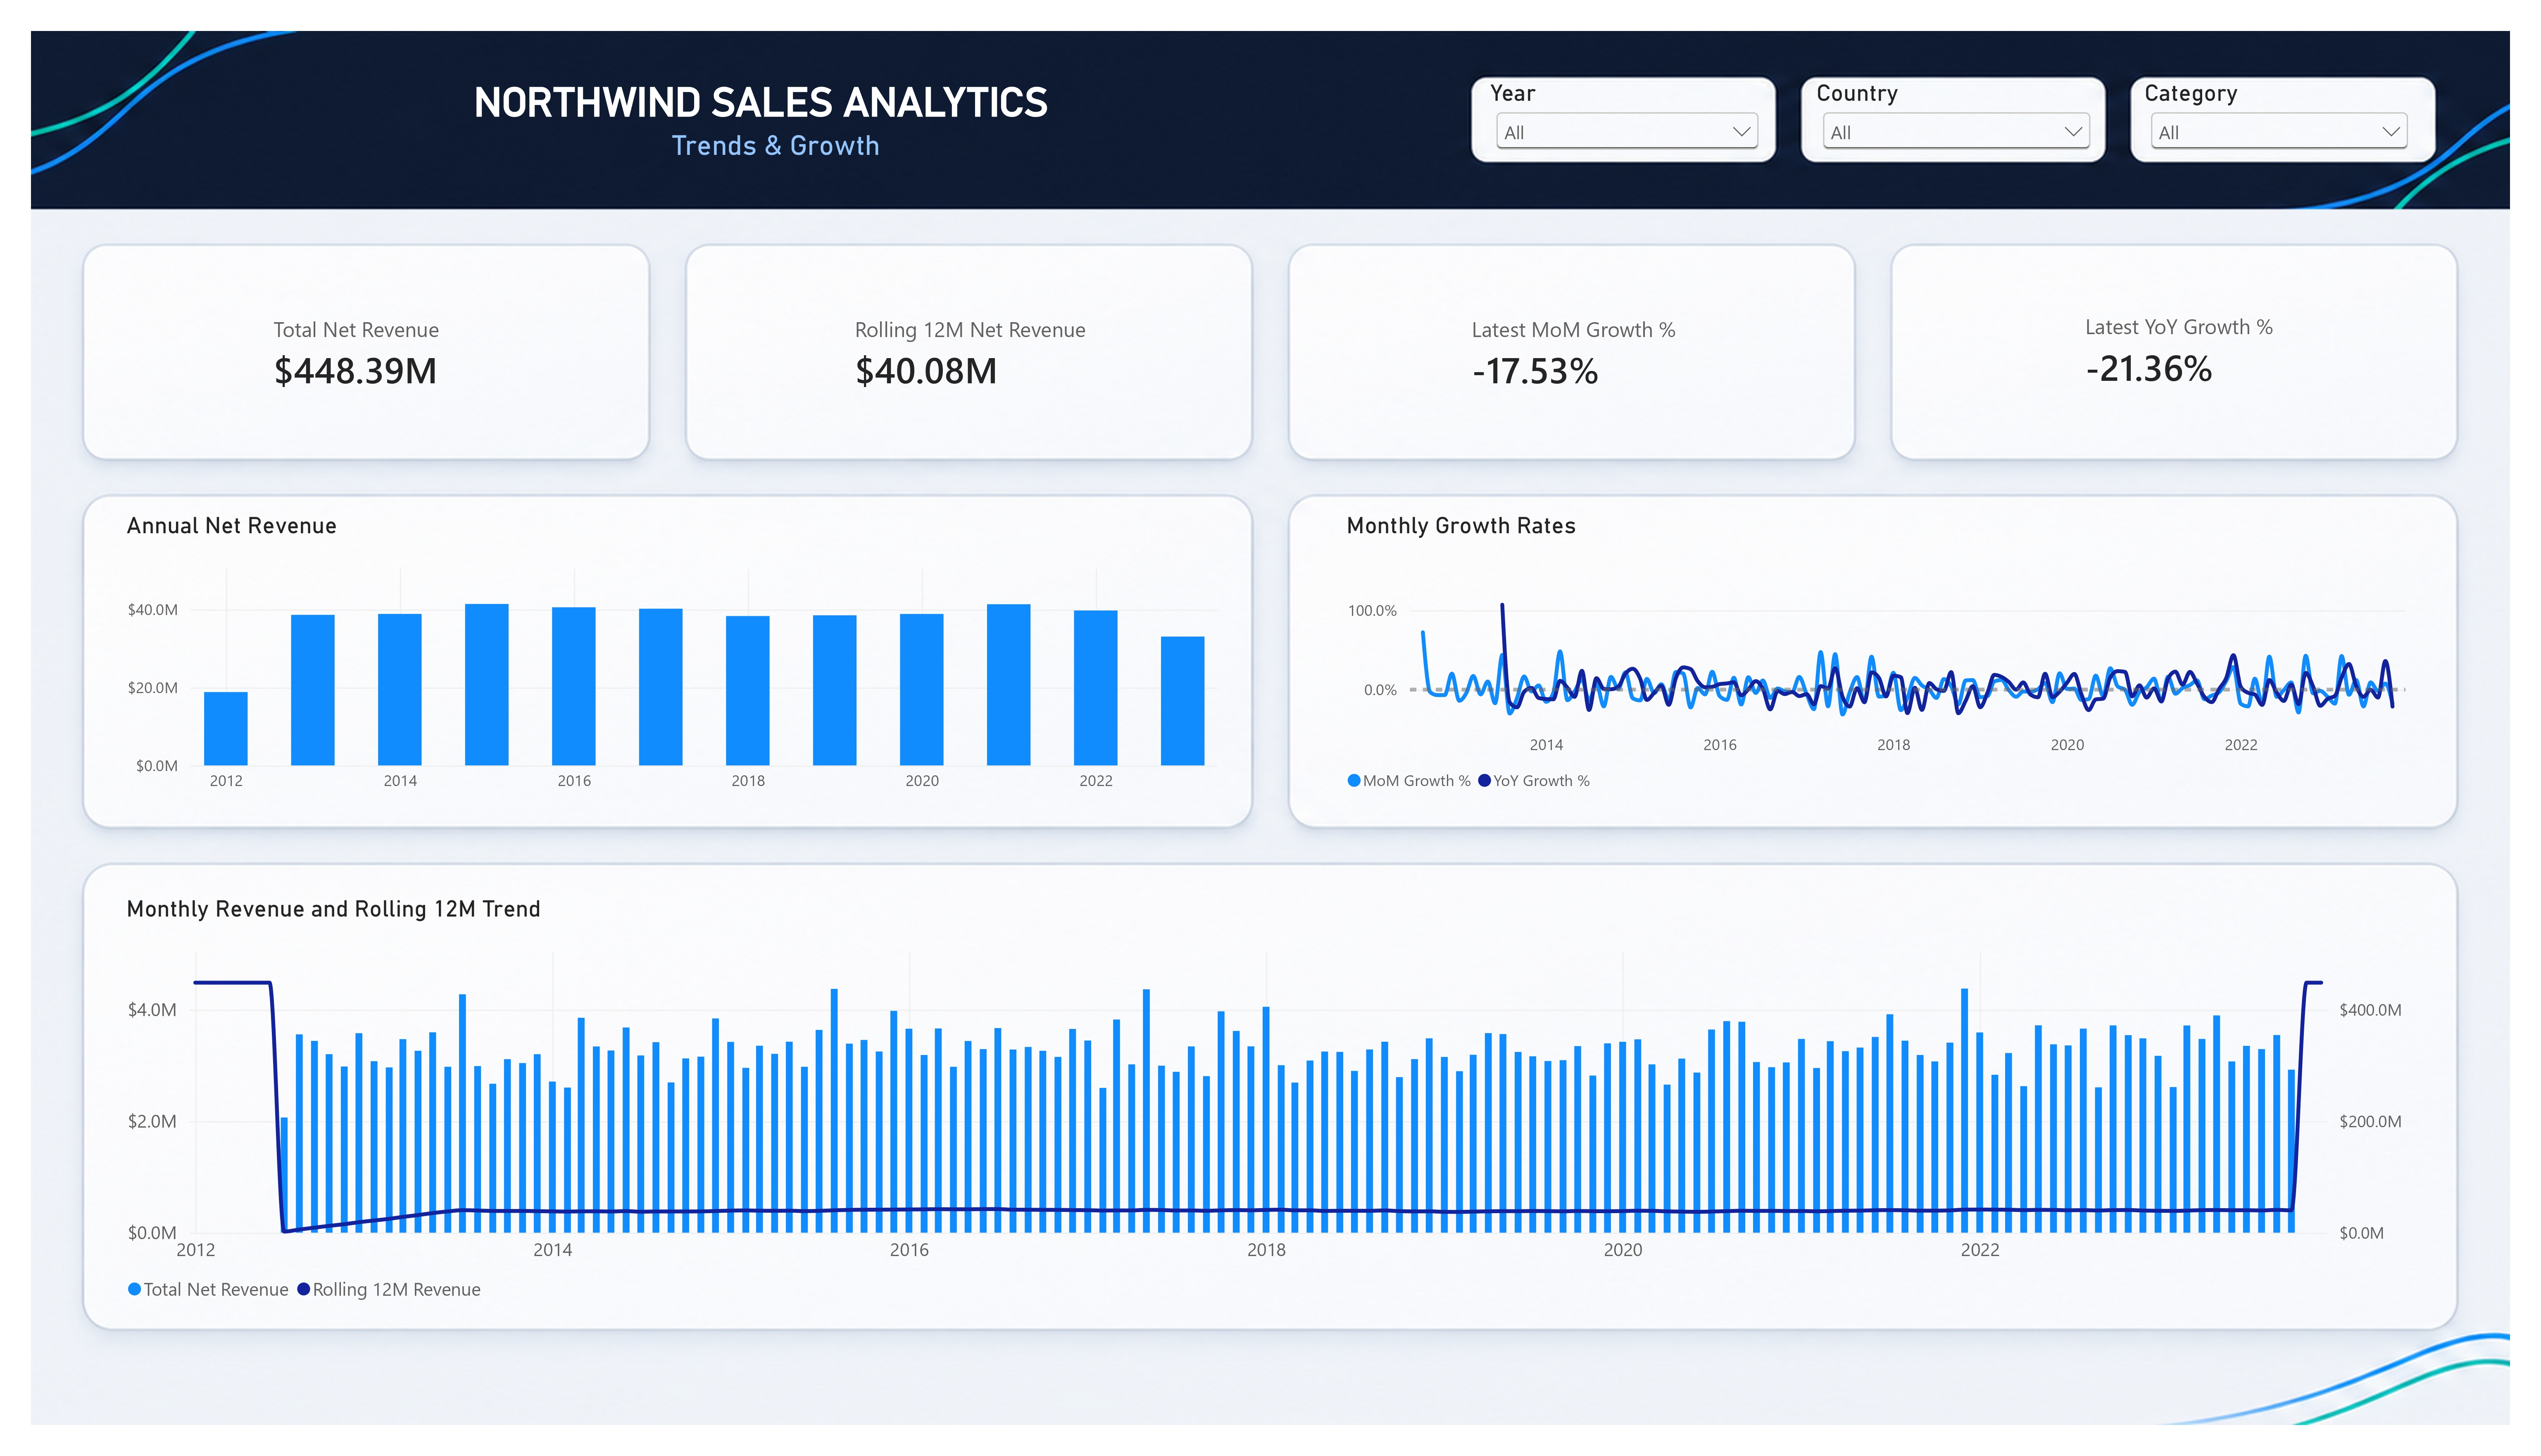

What the dashboard file says about the page in this screenshot:
{"tool":"powerbi","page":{"name":"Trends & Growth","canvas":[1920,1080],"ordinal":3},"visuals":[{"type":"lineClusteredColumnComboChart","title":"Monthly Revenue and Rolling 12M Trend","fields":{"Category":["DimDate.Month Start"],"Y":["_Measures.Total Net Revenue"],"Y2":["_Measures.Rolling 12M Net Revenue"]},"box":[58.3,655,1800,350],"z":0},{"type":"cardVisual","fields":{"Data":["_Measures.Total Net Revenue"]},"box":[171.7,190,207.8,121.2],"z":1000},{"type":"cardVisual","fields":{"Data":["_Measures.Rolling 12M Net Revenue"]},"box":[621.7,190,248.3,121.7],"z":2000},{"type":"cardVisual","fields":{"Data":["_Measures.Latest MoM Growth %"]},"box":[1100,190,207.8,121.2],"z":3000},{"type":"cardVisual","fields":{"Data":["_Measures.Latest YoY Growth %"]},"box":[1575,188.3,207.8,121.2],"z":4000},{"type":"lineChart","title":"Monthly Growth Rates","fields":{"Category":["DimDate.Month Start"],"Y":["_Measures.MoM Growth %","_Measures.YoY Growth %"]},"box":[1003.3,358.3,855,251.7],"z":5000},{"type":"clusteredColumnChart","title":"Annual Net Revenue","fields":{"Category":["DimDate.Year"],"Y":["_Measures.Total Net Revenue"]},"box":[58.3,358.3,876.7,251.7],"z":6000},{"type":"slicer","title":"Year","fields":{"Values":["DimDate.Year"]},"box":[1130,37.1,212.9,94.3],"z":6001},{"type":"slicer","title":"Country","fields":{"Values":["DimCustomer.CustomerCountry"]},"box":[1382.9,37.1,217.1,77.1],"z":6002},{"type":"slicer","title":"Category","fields":{"Values":["DimProduct.CategoryName"]},"box":[1637.1,37.1,208.6,77.1],"z":6003},{"type":"textbox","title":"Trends & Growth","box":[496.2,76.2,172.5,28.8],"z":6004},{"type":"textbox","title":"NORTHWIND SALES ANALYTICS","box":[343.3,36.7,478.3,38.3],"z":6005}]}

Visuals, with their boxes on the page's 1920x1080 design canvas (x1, y1, x2, y2). These are canvas units, not pixel positions in the 2541x1456 screenshot, which may show the page scaled, cropped or inside an application window:
"Monthly Revenue and Rolling 12M Trend" lineClusteredColumnComboChart: detection(58, 655, 1858, 1005)
cardVisual - _Measures.Total Net Revenue: detection(172, 190, 380, 311)
cardVisual - _Measures.Rolling 12M Net Revenue: detection(622, 190, 870, 312)
cardVisual - _Measures.Latest MoM Growth %: detection(1100, 190, 1308, 311)
cardVisual - _Measures.Latest YoY Growth %: detection(1575, 188, 1783, 310)
"Monthly Growth Rates" lineChart: detection(1003, 358, 1858, 610)
"Annual Net Revenue" clusteredColumnChart: detection(58, 358, 935, 610)
"Year" slicer: detection(1130, 37, 1343, 131)
"Country" slicer: detection(1383, 37, 1600, 114)
"Category" slicer: detection(1637, 37, 1846, 114)
"Trends & Growth" textbox: detection(496, 76, 669, 105)
"NORTHWIND SALES ANALYTICS" textbox: detection(343, 37, 822, 75)
